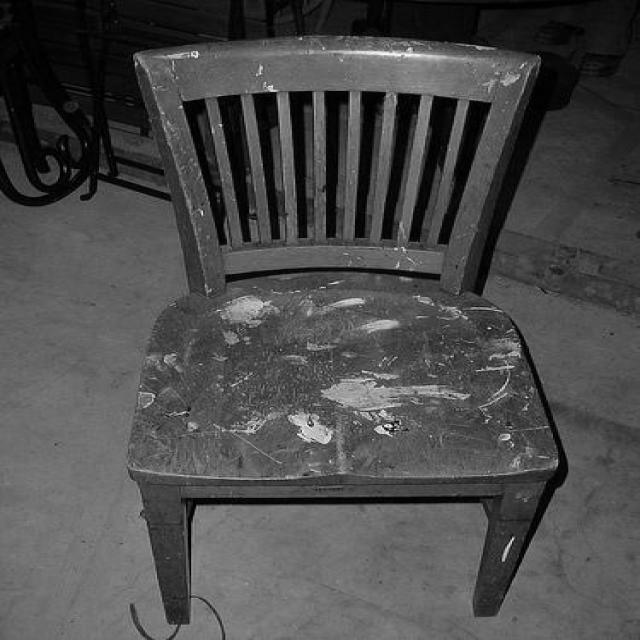chair: (126, 35, 564, 622)
